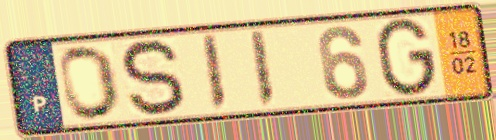6: (314, 23, 370, 102)
G: (374, 15, 439, 100)
I: (246, 28, 278, 111), (198, 32, 230, 115)
O: (57, 43, 124, 124)
S: (118, 36, 189, 121)
